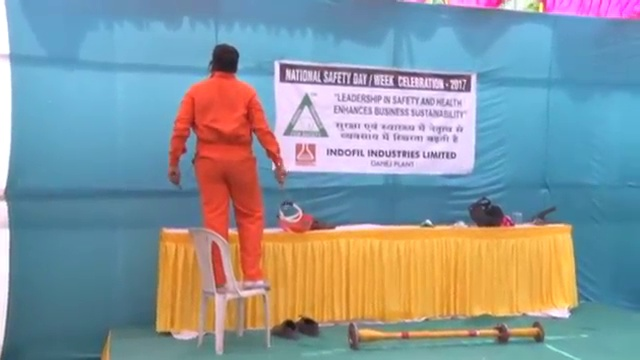helmet_off: (206, 43, 242, 78)
person: (165, 45, 282, 294)
